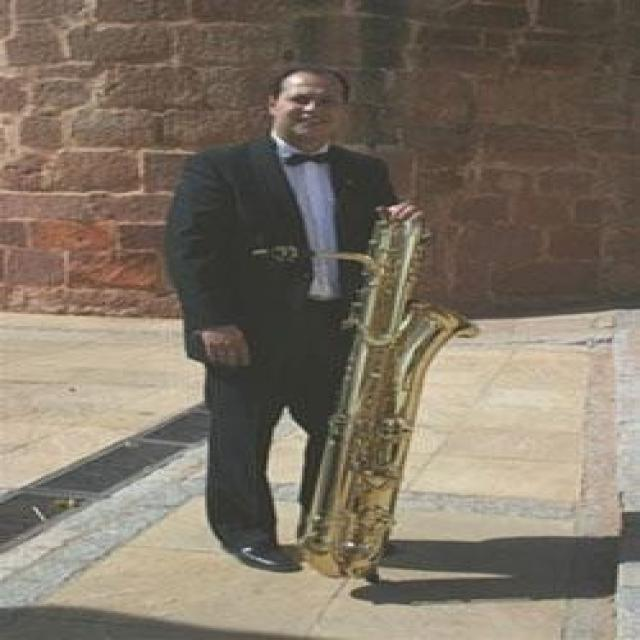saxophone: (247, 211, 488, 585)
